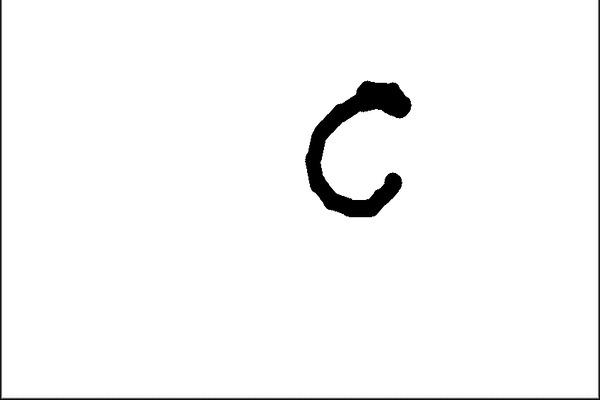C: (299, 76, 417, 222)
